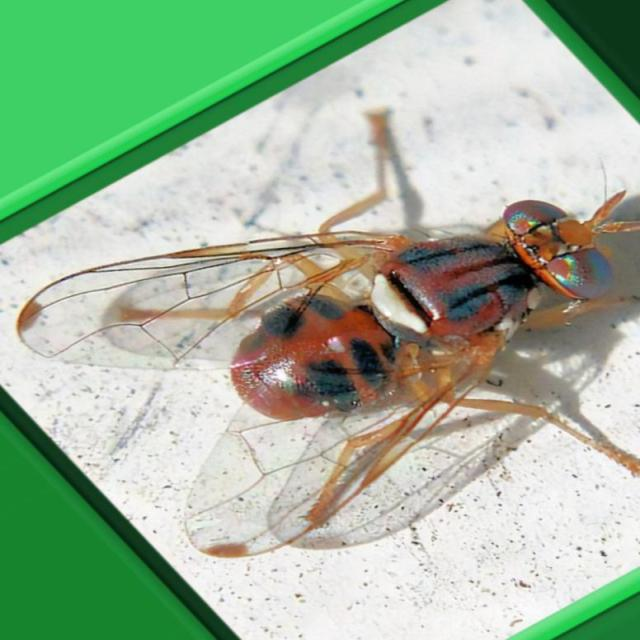Olive Fruit Fly: (16, 110, 639, 558)
